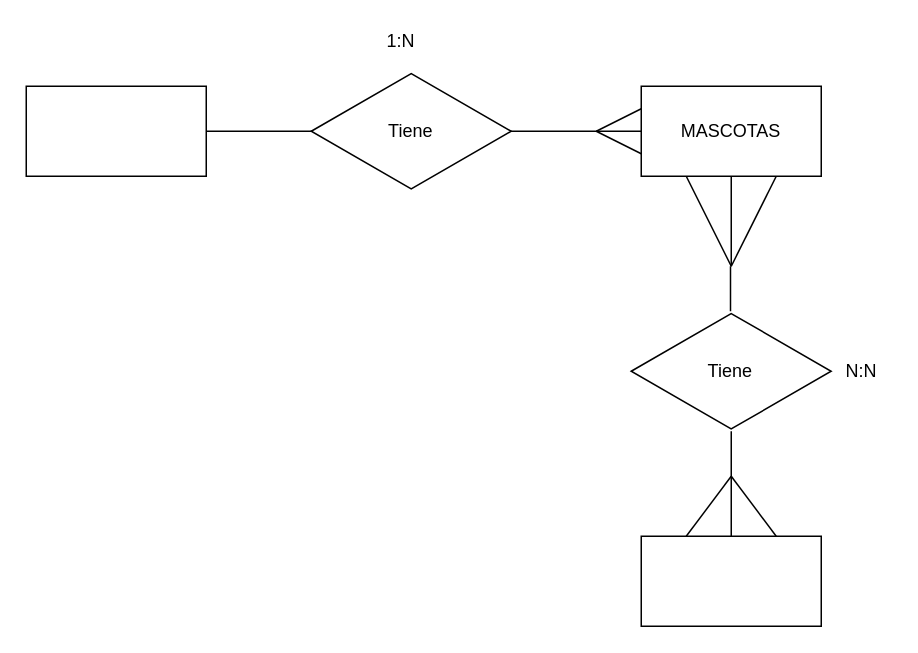
The diagram is 918 pixels wide and 653 high, and some of its shapes have lost their labels. The shapes that lost their labels are listed below. From the top down, each one's centre as x and y in pixels, then its label:
At point (115, 130): "USUARIO".
At point (730, 580): "VACUNAS".
